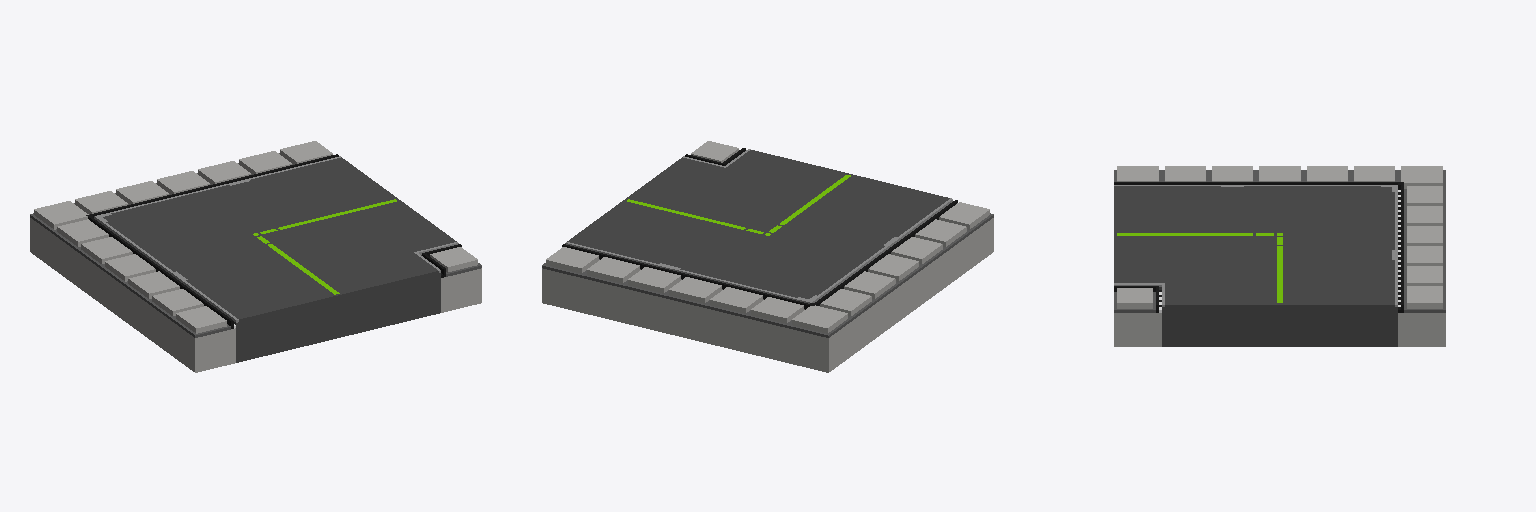
3 renders of one model, left to right at view 1: azimuth 30°, elevation 25°; view 2: azimuth 150°, elevation 25°; view 3: azimuth 270°, elevation 25°, orthographic.
Visible parts, largest first — view 1: Street2; view 2: Street2; view 3: Street2.
Boxes of the visible parts, x1=… form: Street2: x1=30, y1=141, x2=481, y2=372; Street2: x1=542, y1=141, x2=993, y2=372; Street2: x1=1114, y1=166, x2=1445, y2=346.
Bounding box in the file's own units: 7.06 × 1.01 × 7.06.
1 materials, 1 textured.